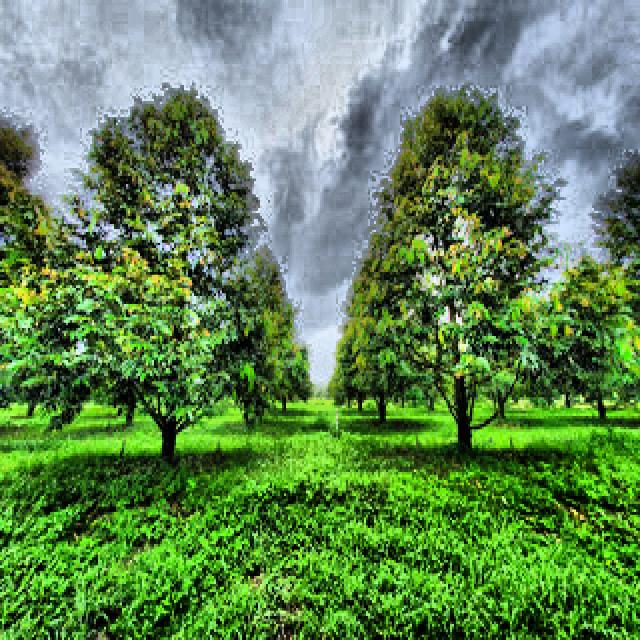arvore: (434, 265, 489, 472), (148, 269, 191, 486), (583, 348, 619, 432), (372, 350, 396, 434)
